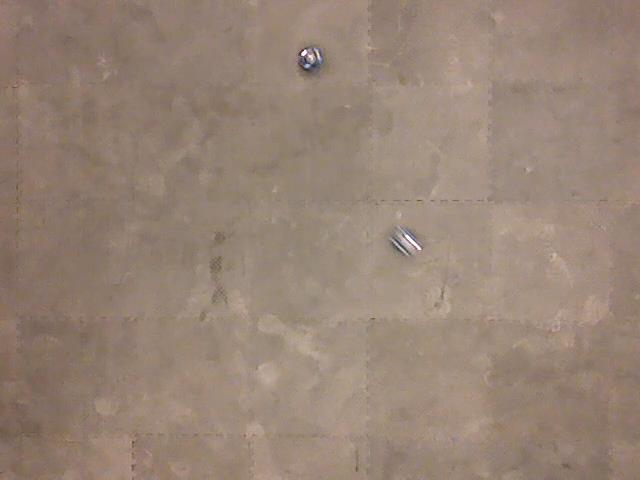Agent: (387, 224, 426, 259), (297, 45, 324, 73)
